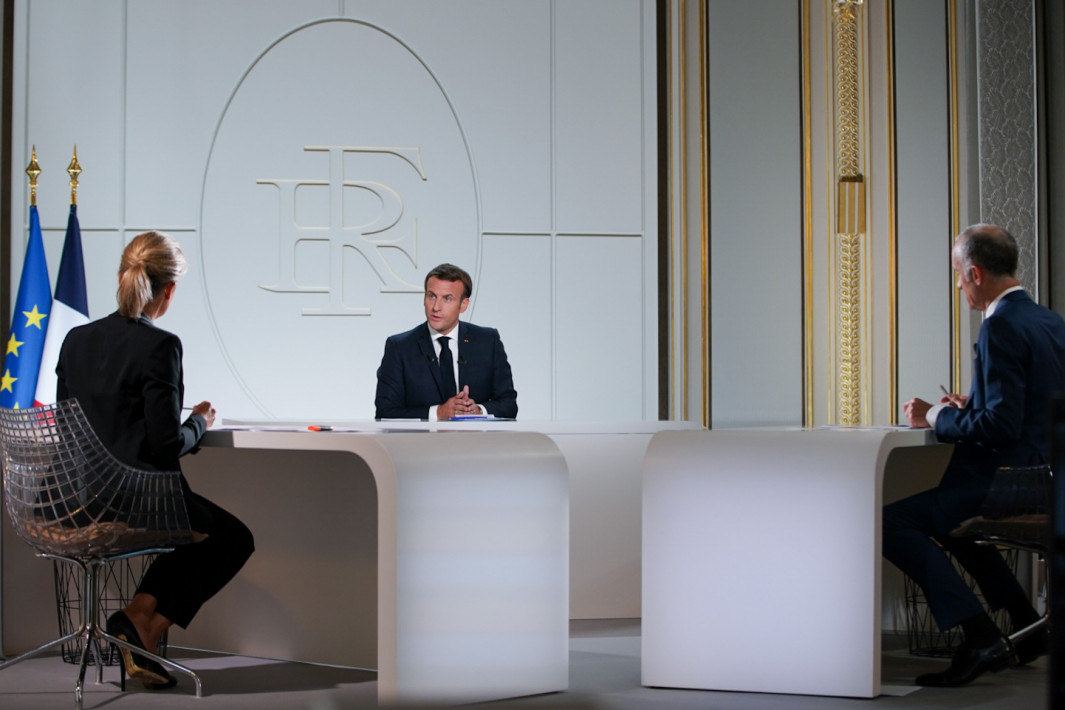without_mask: (954, 259, 993, 307), (426, 286, 455, 322)
